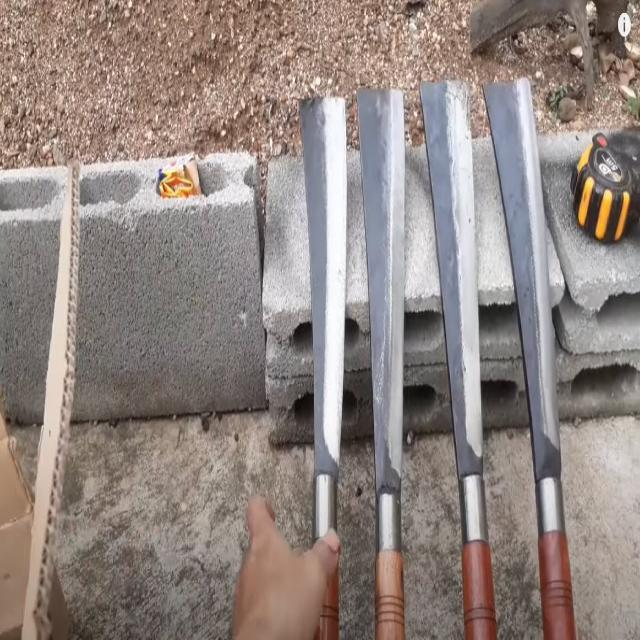eto: (484, 73, 578, 640)
